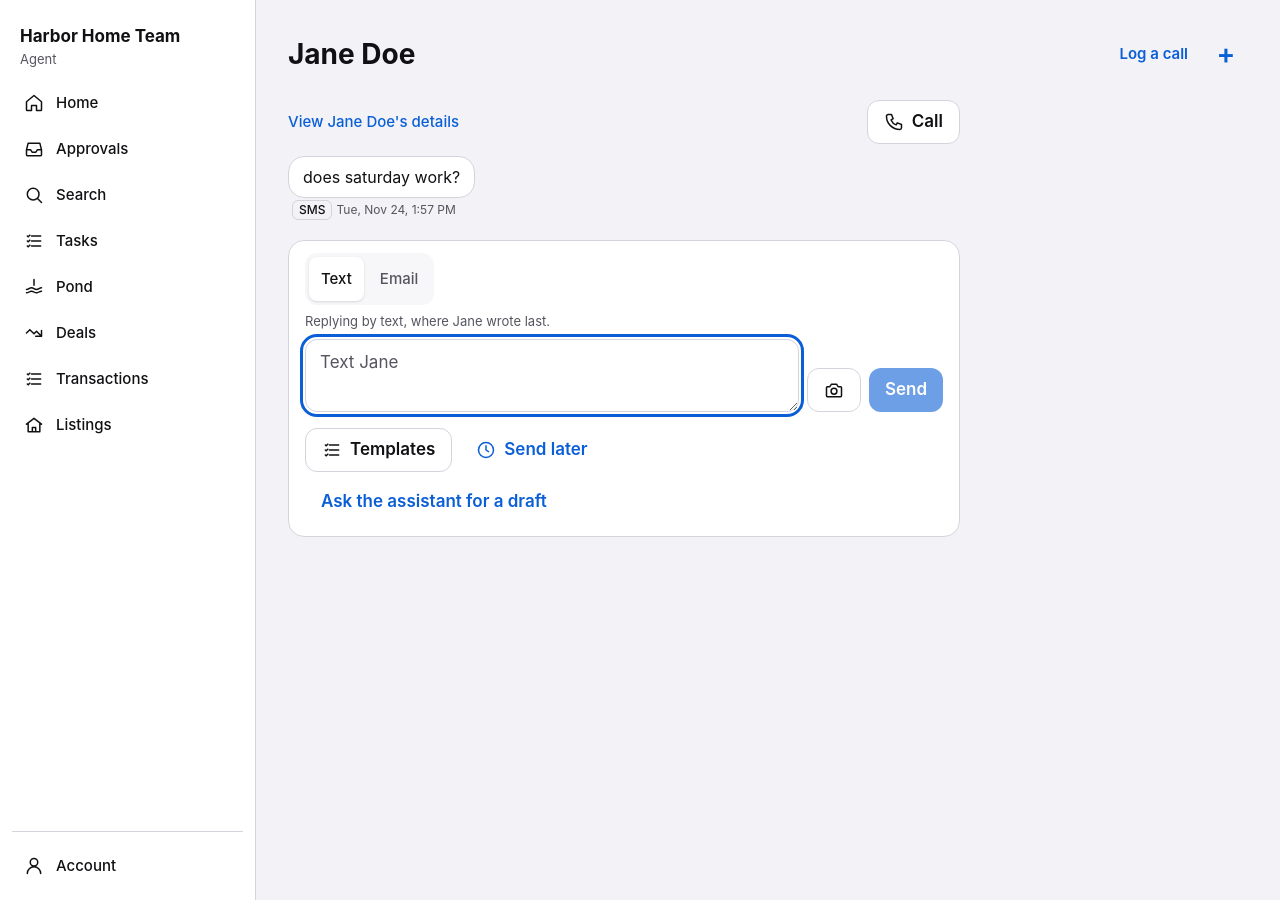
Test case: Thread › the inline gate preview shows the server sentence before sending (e.g. a shared number that opted out)
Type "Hello" into the text box named "Text message" at point(552, 375), box [305,339,799,412]
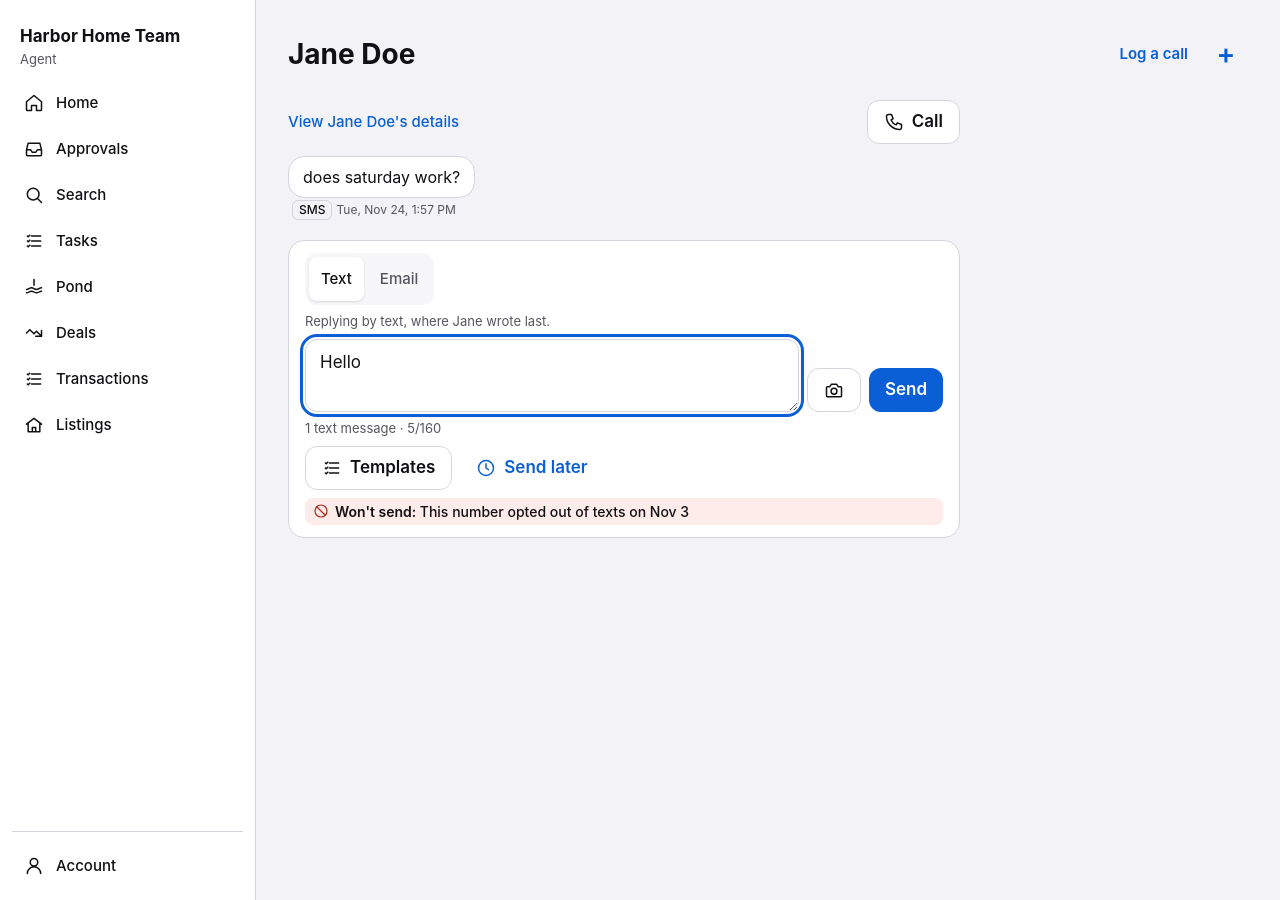
Result: the text "This number opted out of texts on Nov 3" is shown at [420,503,689,520]
